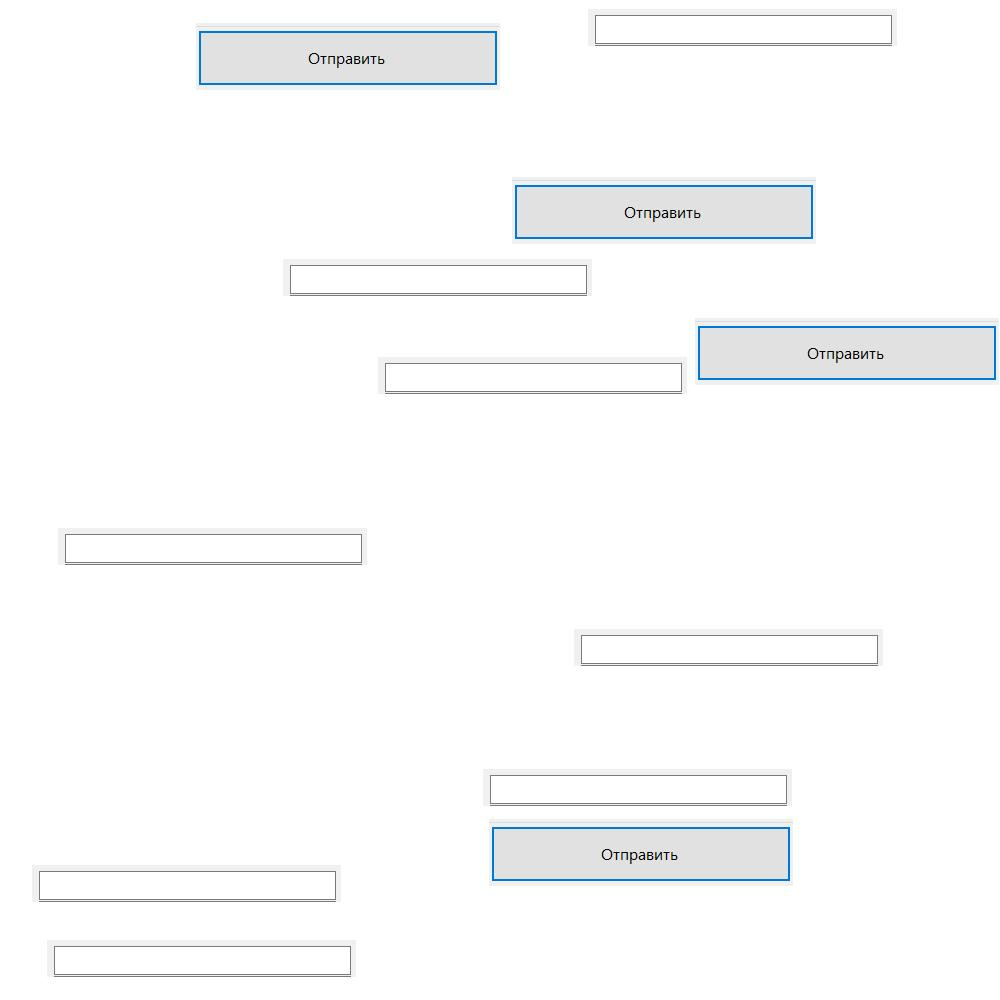Button: (489, 819, 793, 886), (695, 318, 999, 385), (196, 23, 500, 90), (512, 177, 816, 244)
EditText-: (283, 259, 592, 296), (32, 865, 341, 902), (378, 357, 687, 394), (58, 528, 367, 565), (47, 940, 356, 977), (588, 9, 897, 46), (483, 769, 792, 806), (574, 629, 883, 666)
